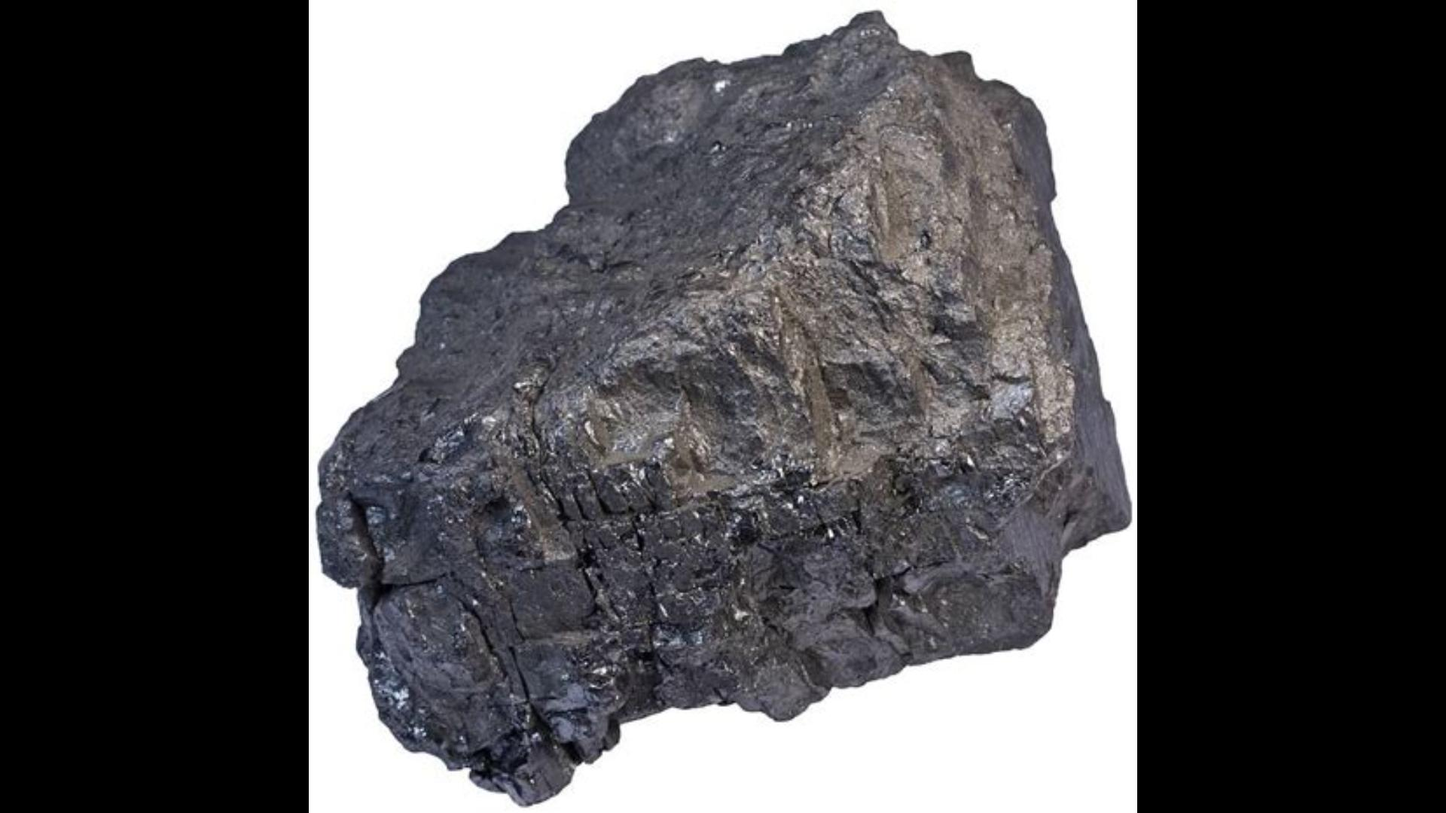rock: (319, 14, 1127, 803)
